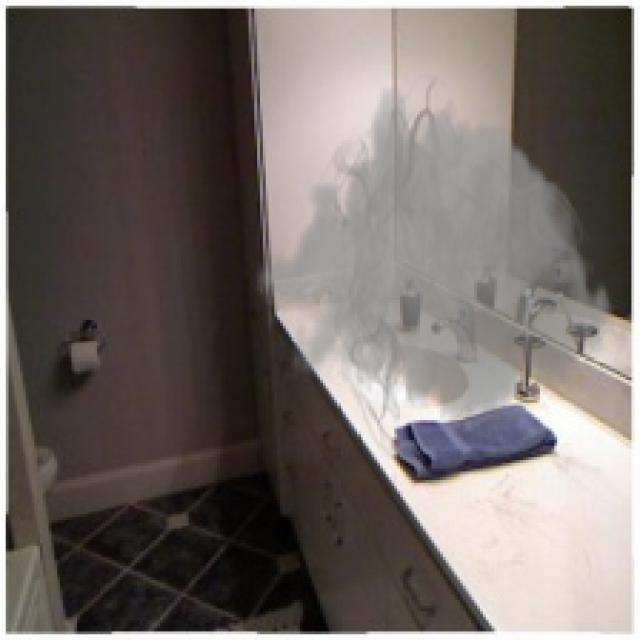smoke: (255, 71, 614, 466)
